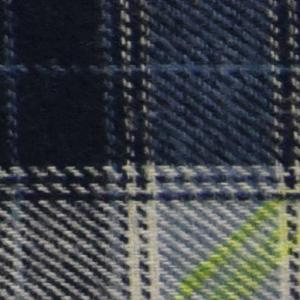Stain: (172, 181, 300, 300)
